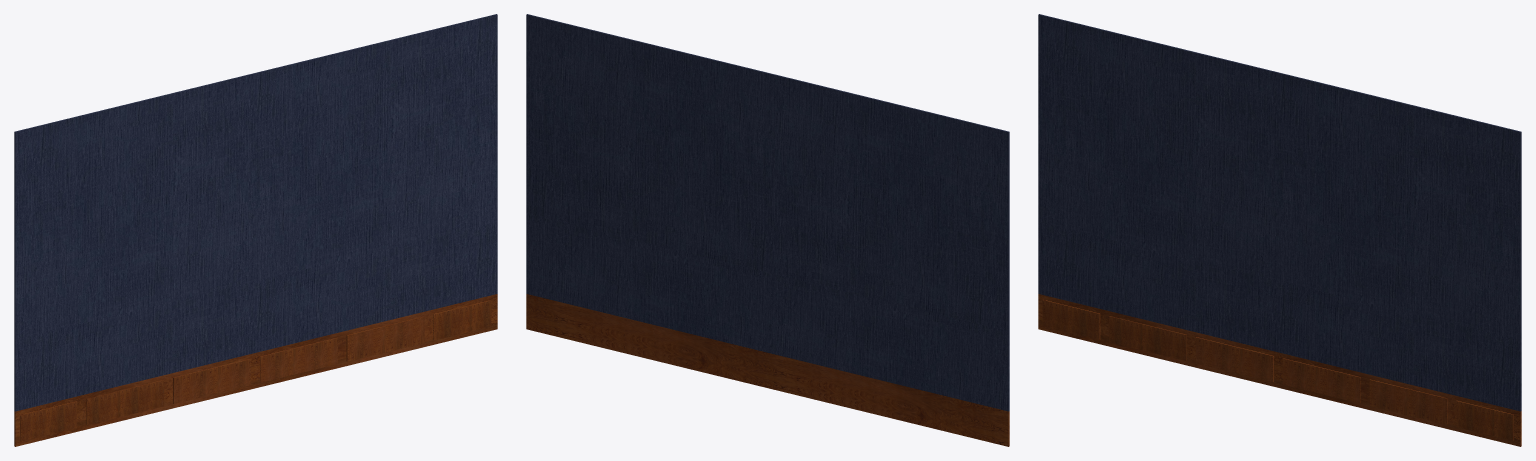
The model's file is AnotherWallMainHall.fbx.
3 renders of one model, left to right at view 1: azimuth 30°, elevation 25°; view 2: azimuth 150°, elevation 25°; view 3: azimuth 330°, elevation 25°, orthographic.
Parts seen in each view (by area): view 1: Wall.002; view 2: Wall.002; view 3: Wall.002.
Part boxes in pixels (x1,y1,x2,y2): Wall.002: (14, 14, 497, 446); Wall.002: (526, 14, 1009, 446); Wall.002: (1038, 14, 1521, 446).
Size of the model in its own units: 1809 by 1128 by 8.33.
